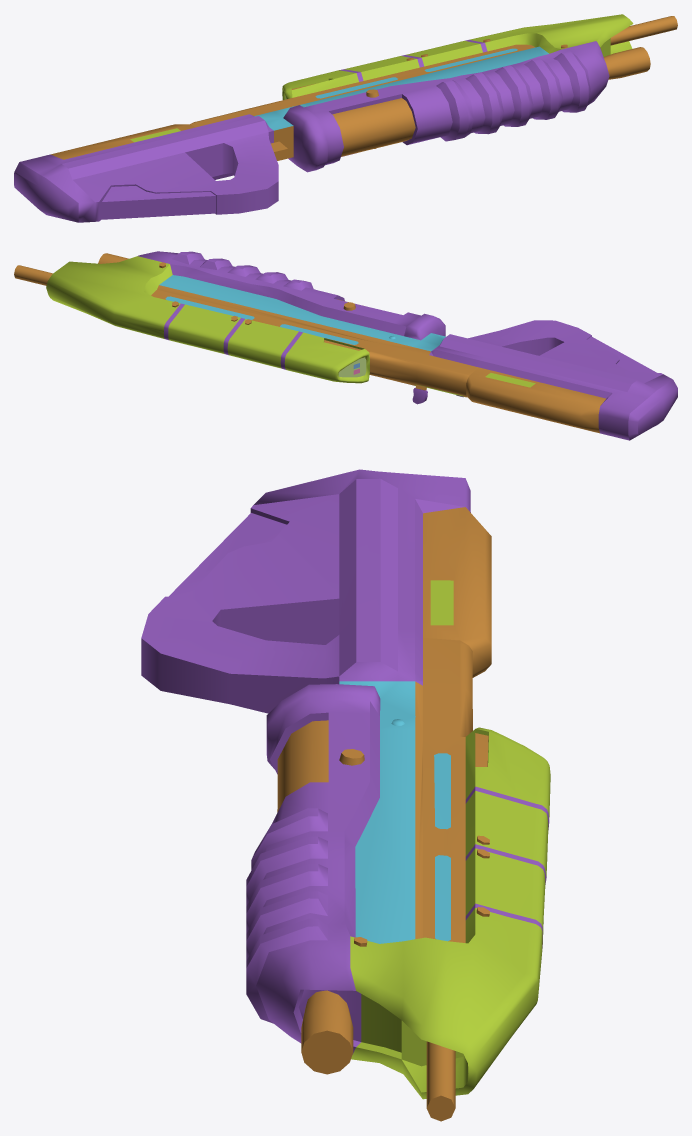
The model's file is assault_rifle.dae.
The picture shows the model from 3 angles, top to bottom: view 1: azimuth 30°, elevation 25°; view 2: azimuth 150°, elevation 25°; view 3: azimuth 270°, elevation 25°; orthographic projection. The views are drawn at different scales.
Visible parts, largest first — view 1: assault_rifle; view 2: assault_rifle; view 3: assault_rifle.
Boxes of the visible parts, x1,y1,x2,y2 form: assault_rifle: (14, 14, 677, 222); assault_rifle: (14, 251, 677, 440); assault_rifle: (141, 469, 550, 1121).
Size of the model in its own units: 3.24 by 0.9193 by 0.2916.
